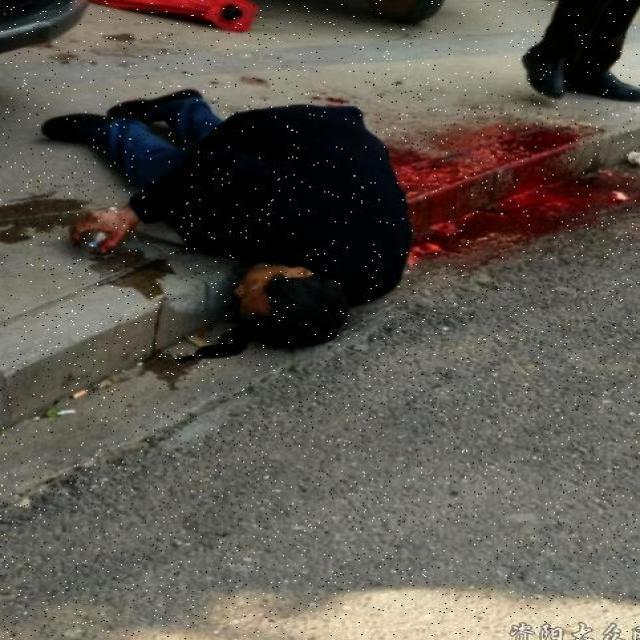fall: (72, 93, 394, 333)
